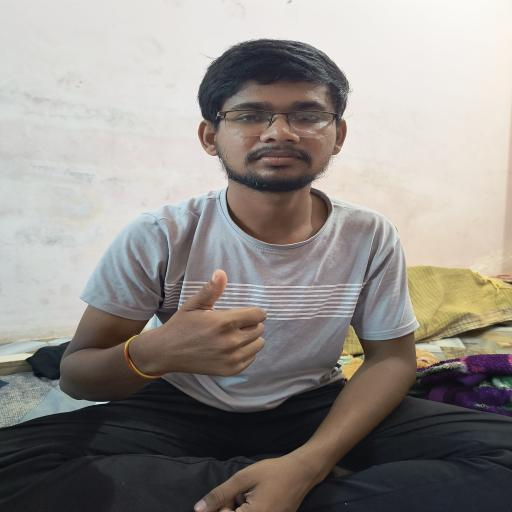Good Morning: (142, 262, 295, 395)
